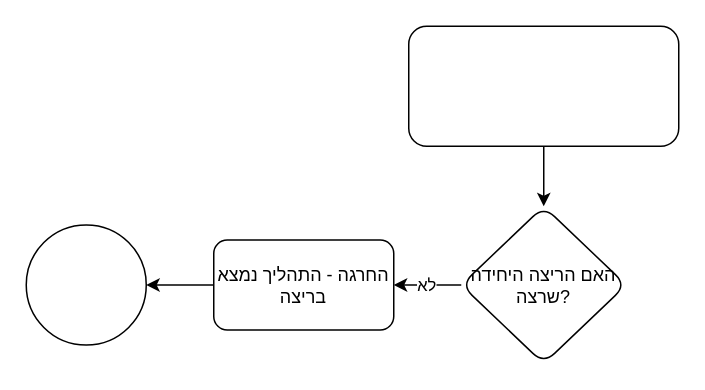
Some shapes in this 705 by 390 pixel diagram are drawn without their labels. The centre of each missing label's shape, as x and y in pixels:
"סיום תהליך" belongs at point 85,284.
"שליפת מאפיינים SMSDistributionPopulationMulti & SingleProcess" belongs at point 543,85.
